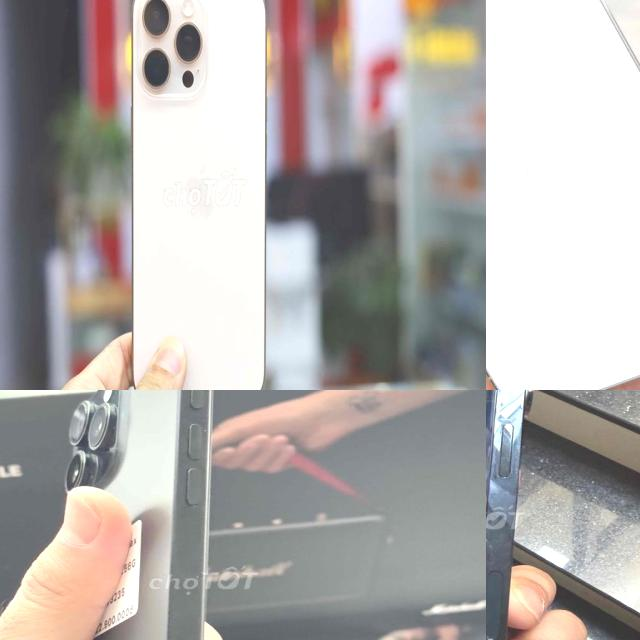gen_12_13: (486, 0, 640, 390), (486, 390, 555, 640)
gen_16: (121, 0, 279, 390), (65, 390, 211, 640)
